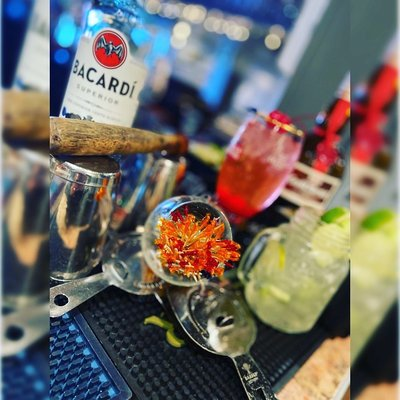sushi: (141, 195, 243, 288)
